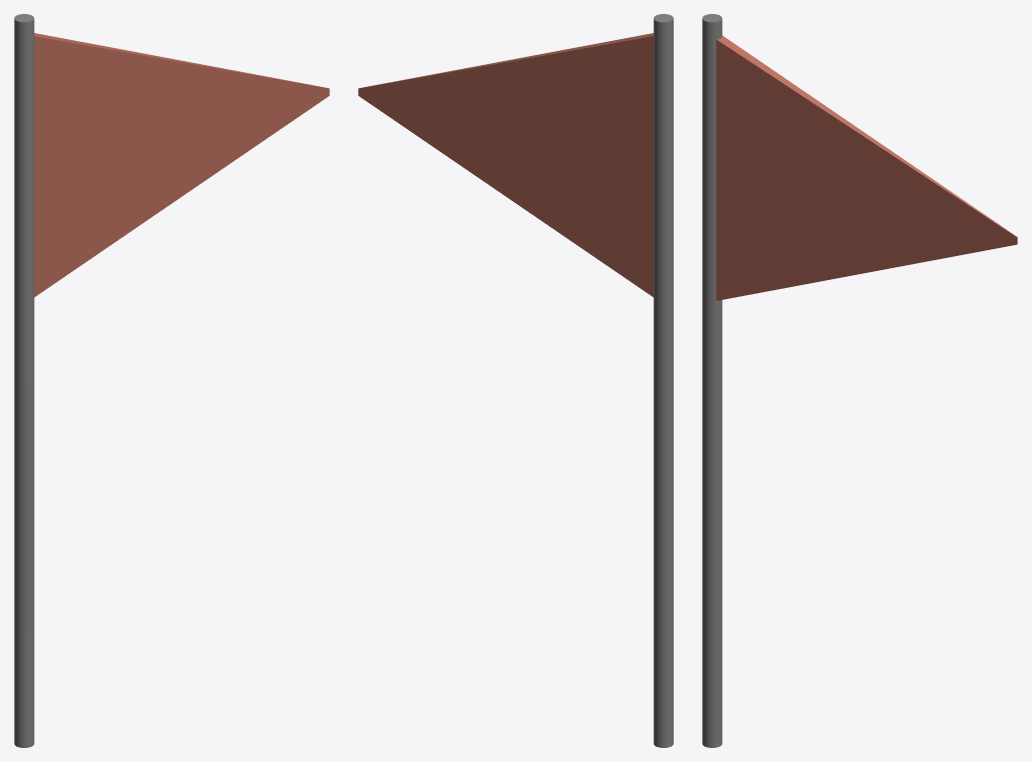
The picture shows the model from 3 angles, left to right: view 1: azimuth 30°, elevation 25°; view 2: azimuth 150°, elevation 25°; view 3: azimuth 330°, elevation 25°; orthographic projection.
Visible parts, largest first — view 1: pCylinder2; view 2: pCylinder2; view 3: pCylinder2.
Part boxes in pixels (box(x1,y1,x2,y2)): pCylinder2: box(14, 14, 329, 747); pCylinder2: box(358, 14, 673, 747); pCylinder2: box(702, 14, 1017, 747).
Bounding box in the file's own units: 7.77 × 17.18 × 0.4277.
